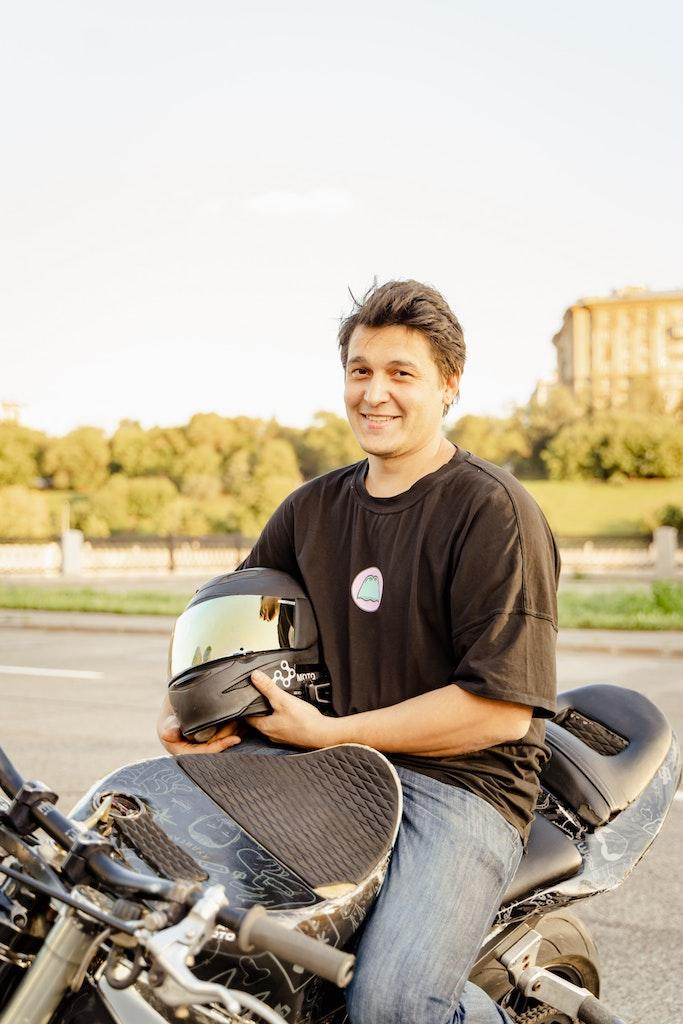helmet: (165, 565, 362, 746)
nohelmet: (336, 277, 468, 467)
